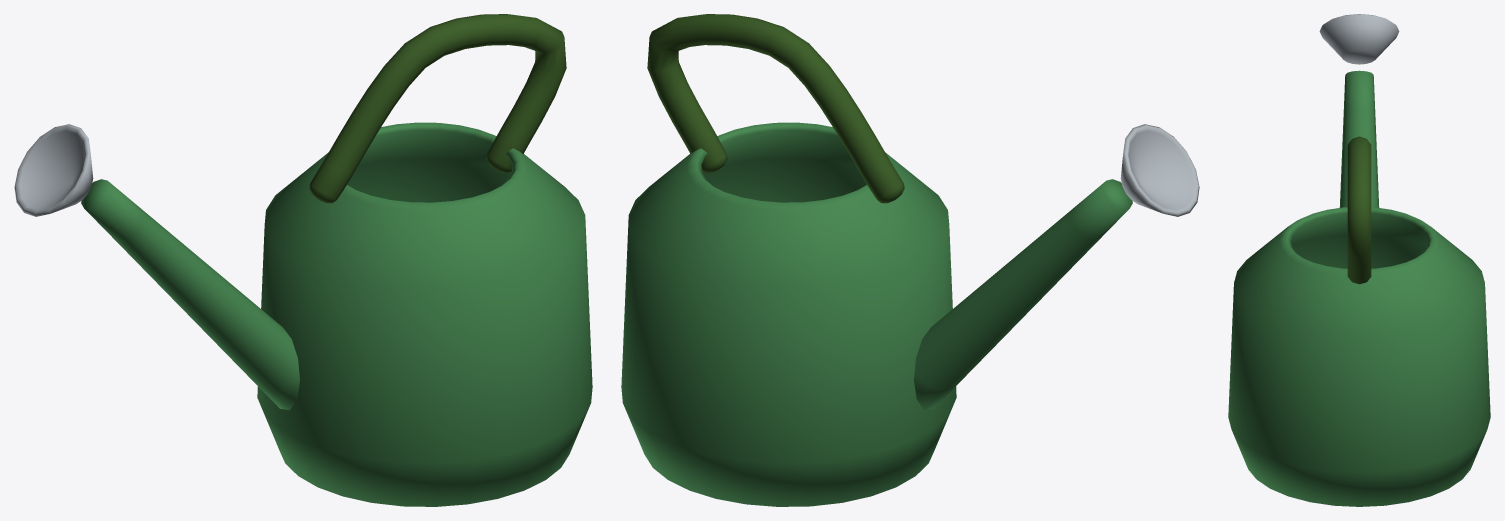
File: giesskanne.glb
The picture shows the model from 3 angles, left to right: view 1: azimuth 30°, elevation 25°; view 2: azimuth 150°, elevation 25°; view 3: azimuth 270°, elevation 25°; orthographic projection. The views are drawn at different scales.
Visible parts, largest first — view 1: giesskanne-metall; view 2: giesskanne-metall; view 3: giesskanne-metall.
Boxes of the visible parts, x1=… form: giesskanne-metall: x1=14, y1=14, x2=592, y2=506; giesskanne-metall: x1=621, y1=14, x2=1199, y2=506; giesskanne-metall: x1=1228, y1=14, x2=1490, y2=506.
Bounding box in the file's own units: 0.8633 × 0.6302 × 0.46.
